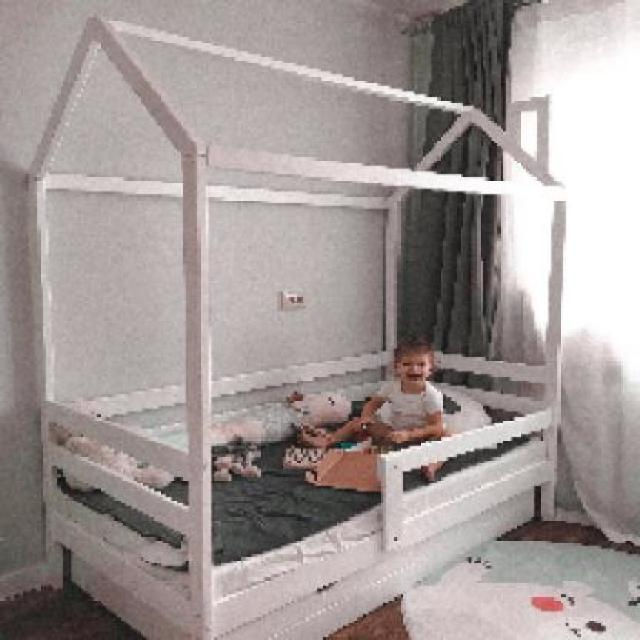child: (294, 330, 454, 479)
